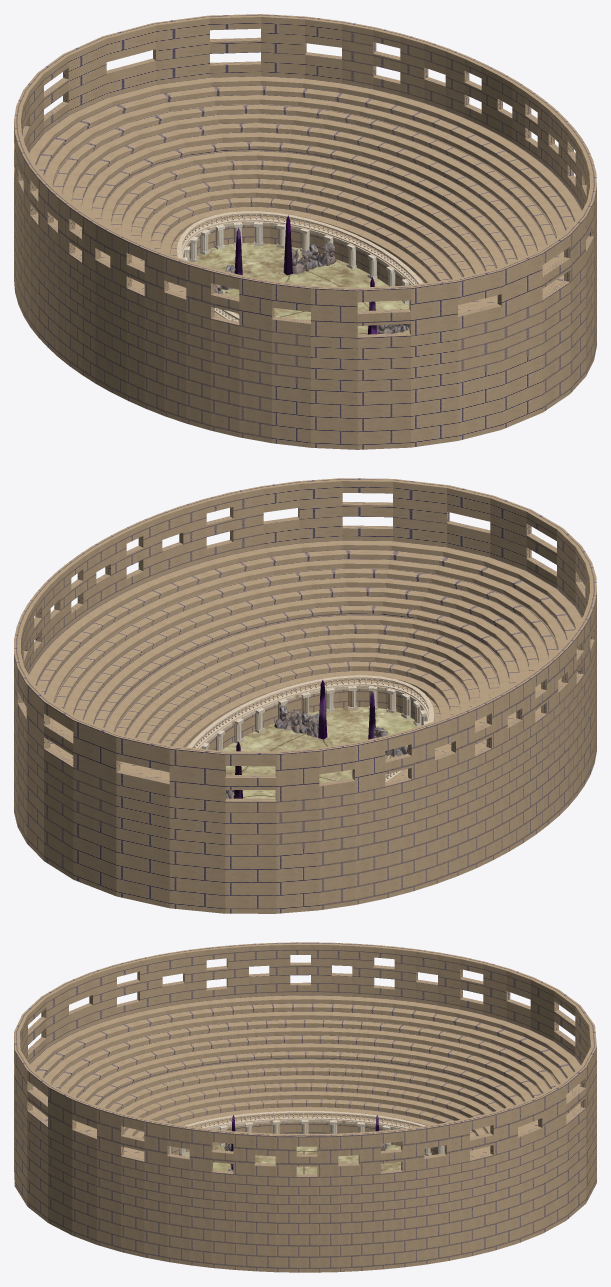
The model's file is NewArena 1.fbx.
3 renders of one model, top to bottom at view 1: azimuth 30°, elevation 25°; view 2: azimuth 150°, elevation 25°; view 3: azimuth 270°, elevation 25°, orthographic. The views are drawn at different scales.
Parts seen in each view (by area): view 1: Cube.012, Circle.002, Cube.132, Cube.054, Cube.014; view 2: Cube.012, Circle.002, Cube.132, Cube.033, Cube.011; view 3: Cube.012, Cube.132, Circle.002.
Part boxes in pixels (x1,y1,x2,y2): Cube.012: (14,14,596,449); Circle.002: (190,243,409,334); Cube.132: (177,211,423,321); Cube.054: (291,243,336,274); Cube.014: (234,215,292,275); Cube.012: (14,478,596,913); Circle.002: (223,707,420,798); Cube.132: (187,675,434,782); Cube.033: (274,705,319,737); Cube.011: (318,680,375,739); Cube.012: (14,942,596,1272); Cube.132: (185,1111,425,1128); Circle.002: (184,1144,431,1174).
Bounding box in the file's own units: 375 × 128 × 476.
